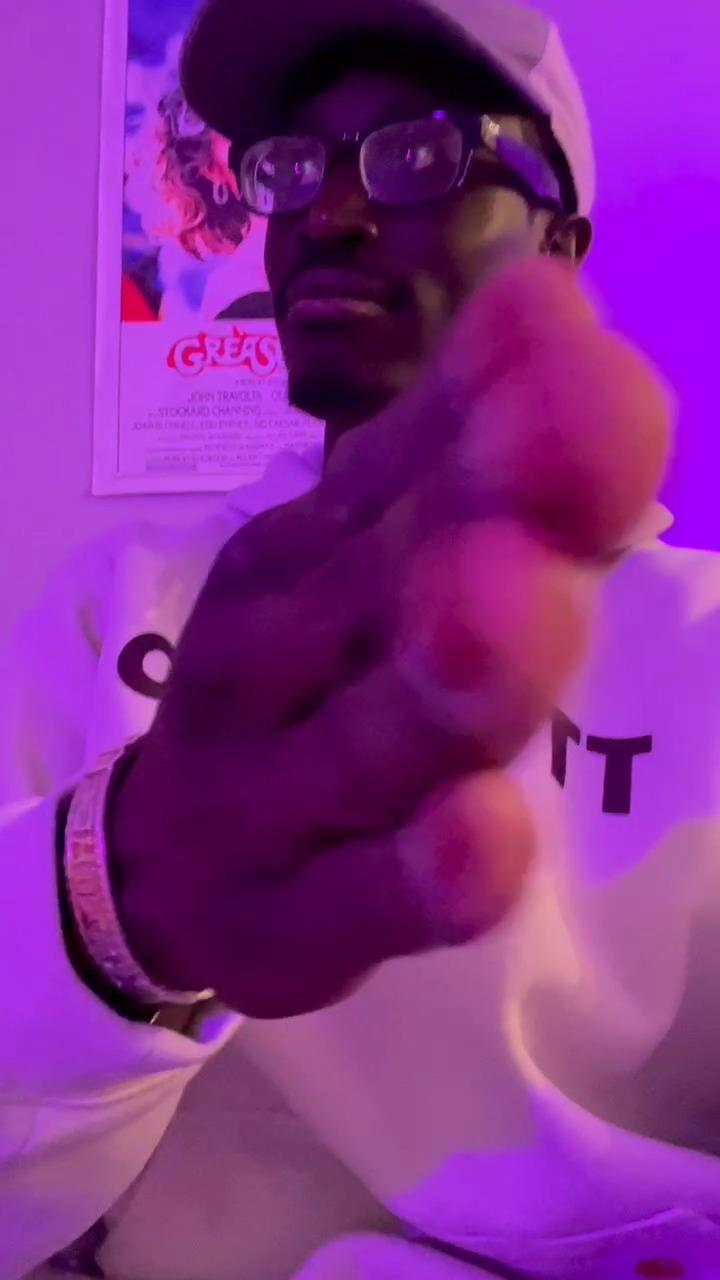Paper: (116, 246, 672, 1021)
